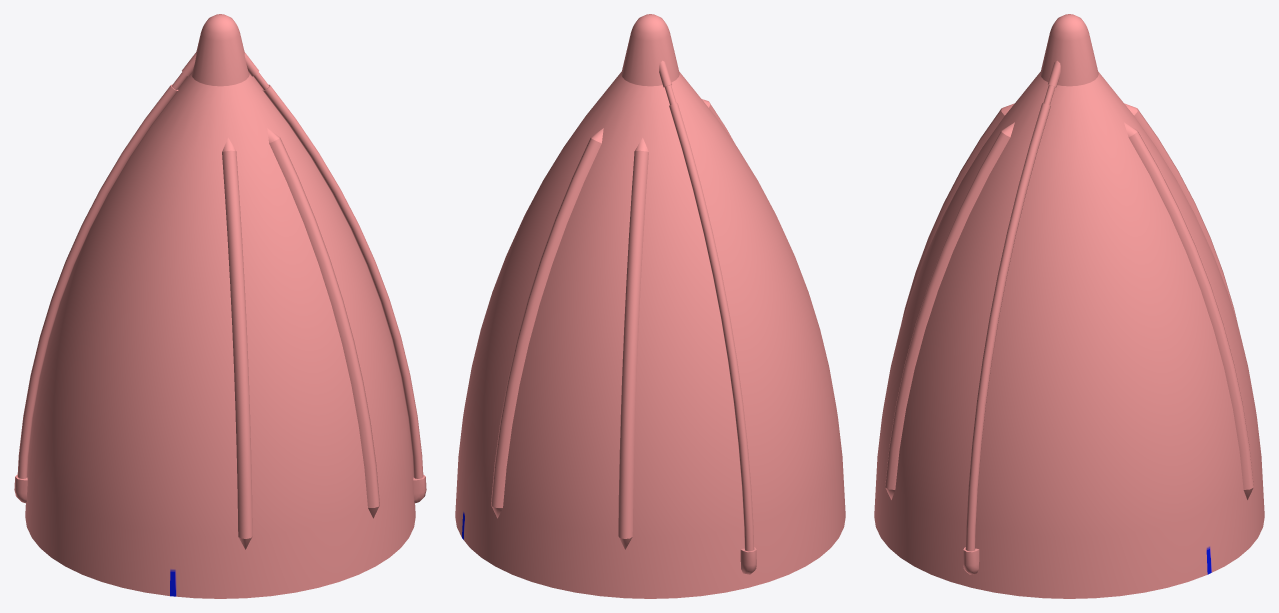
The model's file is RLV_1_Nose_1.obj.
The picture shows the model from 3 angles, left to right: view 1: azimuth 30°, elevation 25°; view 2: azimuth 150°, elevation 25°; view 3: azimuth 270°, elevation 25°; orthographic projection.
Parts seen in each view (by area): view 1: RLV_1_Nose_1; view 2: RLV_1_Nose_1; view 3: RLV_1_Nose_1.
Part boxes in pixels (bbox=[...]): RLV_1_Nose_1: bbox=[14, 14, 426, 598]; RLV_1_Nose_1: bbox=[455, 14, 845, 598]; RLV_1_Nose_1: bbox=[874, 14, 1264, 598].
Bounding box in the file's own units: 5 × 7.07 × 5.
